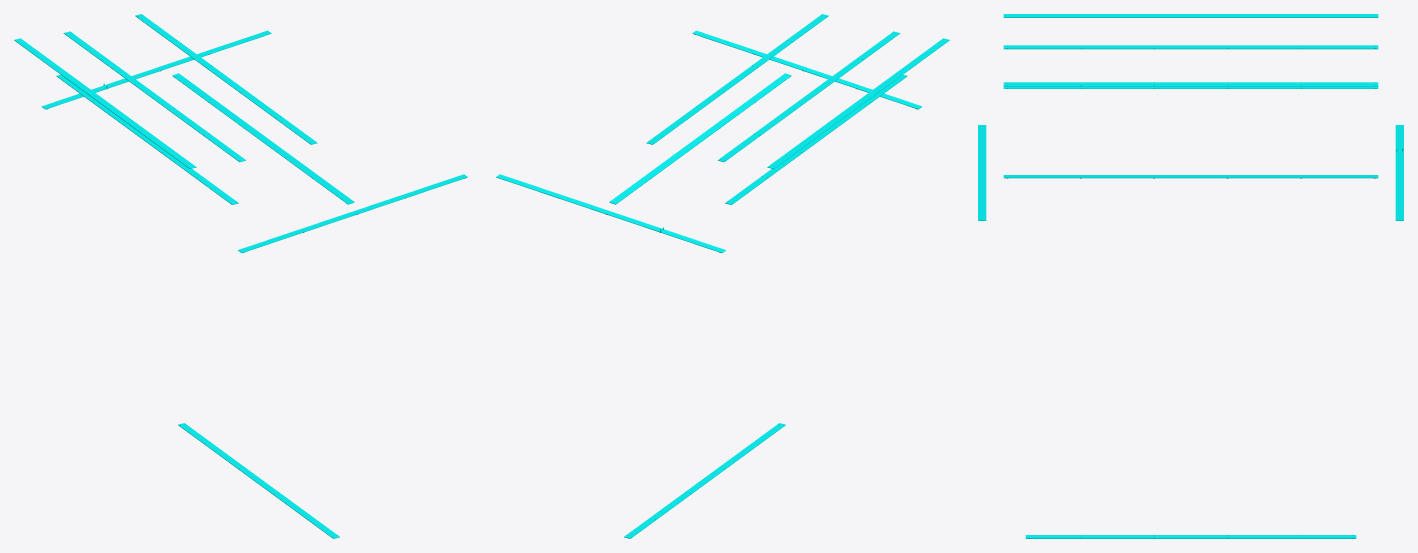
File: LEDS.glb
The picture shows the model from 3 angles, left to right: view 1: azimuth 30°, elevation 25°; view 2: azimuth 150°, elevation 25°; view 3: azimuth 270°, elevation 25°; orthographic projection. The views are drawn at different scales.
Visible parts, largest first — view 1: Leds (×8); view 2: Leds (×8); view 3: Leds (×8).
Part boxes in pixels (x1=…): Leds (×8): x1=14, y1=14, x2=467, y2=538; Leds (×8): x1=496, y1=14, x2=949, y2=538; Leds (×8): x1=978, y1=14, x2=1403, y2=538.
Bounding box in the file's own units: 34.56 × 51.58 × 45.06.
